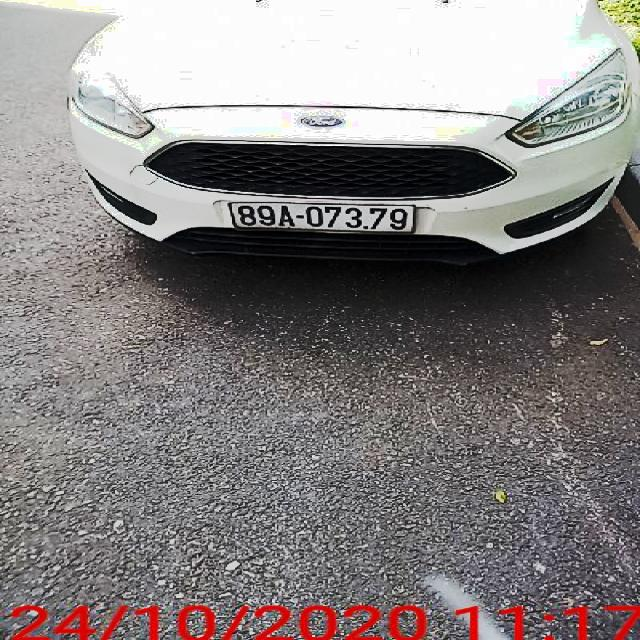license_plate: (232, 204, 418, 234)
